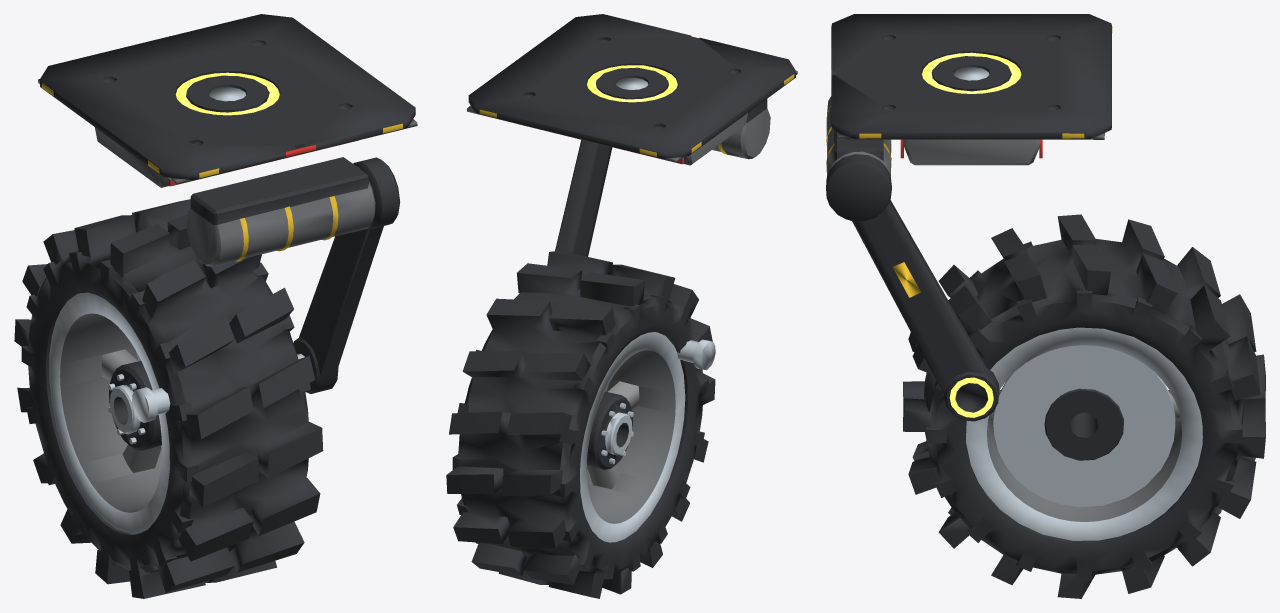
File: R4M_WheelM_SwingArm_Offroad_LOD1.fbx
3 views of the same model, side by side, from view 1: azimuth 30°, elevation 25°; view 2: azimuth 150°, elevation 25°; view 3: azimuth 270°, elevation 25° (orthographic). The views are drawn at different scales.
Visible parts, largest first — view 1: R4M_WheelM_SwingArm_Offroad_Rotor_LOD1, R4M_WheelM_SwingArm_Offroad_Mount_LOD1, R4M_WheelM_SwingArm_Offroad_Arm_LOD1; view 2: R4M_WheelM_SwingArm_Offroad_Rotor_LOD1, R4M_WheelM_SwingArm_Offroad_Mount_LOD1, R4M_WheelM_SwingArm_Offroad_Arm_LOD1; view 3: R4M_WheelM_SwingArm_Offroad_Rotor_LOD1, R4M_WheelM_SwingArm_Offroad_Mount_LOD1, R4M_WheelM_SwingArm_Offroad_Arm_LOD1.
Boxes of the visible parts, left/top/right/bottom form: R4M_WheelM_SwingArm_Offroad_Rotor_LOD1: left=14, top=199, right=323, bottom=598; R4M_WheelM_SwingArm_Offroad_Mount_LOD1: left=38, top=14, right=417, bottom=266; R4M_WheelM_SwingArm_Offroad_Arm_LOD1: left=132, top=157, right=400, bottom=422; R4M_WheelM_SwingArm_Offroad_Rotor_LOD1: left=446, top=250, right=715, bottom=598; R4M_WheelM_SwingArm_Offroad_Mount_LOD1: left=467, top=14, right=797, bottom=165; R4M_WheelM_SwingArm_Offroad_Arm_LOD1: left=555, top=140, right=715, bottom=370; R4M_WheelM_SwingArm_Offroad_Rotor_LOD1: left=903, top=214, right=1265, bottom=598; R4M_WheelM_SwingArm_Offroad_Mount_LOD1: left=826, top=14, right=1112, bottom=176; R4M_WheelM_SwingArm_Offroad_Arm_LOD1: left=826, top=154, right=999, bottom=421.
Bounding box in the file's own units: 0.5108 × 1 × 0.7999.
